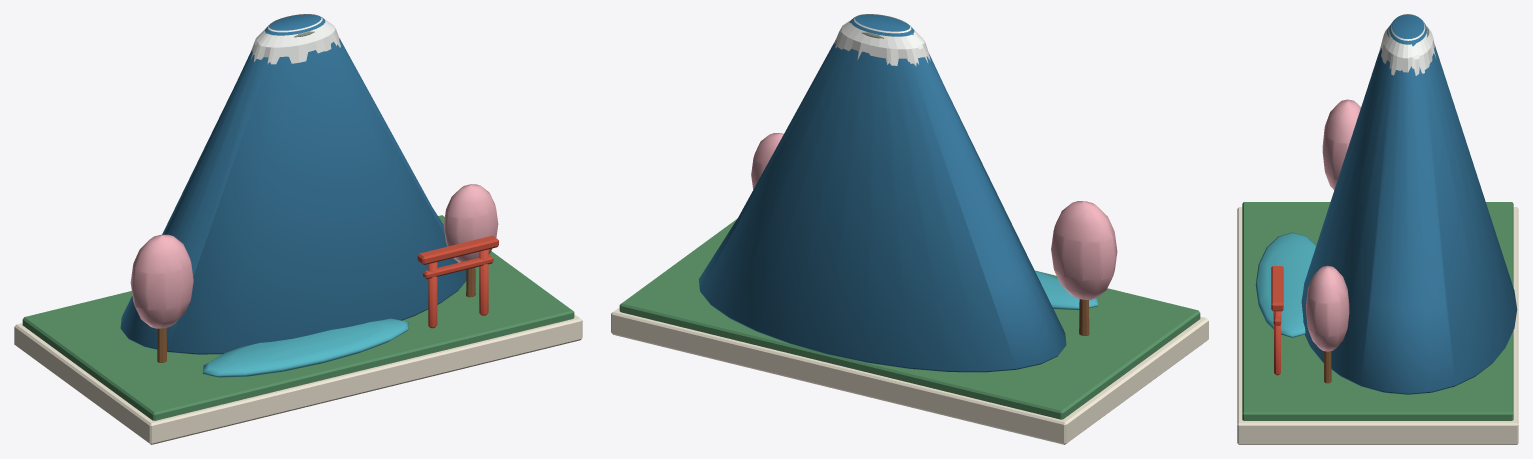
Rendered from mount-fuji.glb.
3 views of the same model, side by side, from view 1: azimuth 30°, elevation 25°; view 2: azimuth 150°, elevation 25°; view 3: azimuth 270°, elevation 25° (orthographic). The views are drawn at different scales.
Parts seen in each view (by area): view 1: Mount Fuji; view 2: Mount Fuji; view 3: Mount Fuji.
Part boxes in pixels (x1,y1,x2,y2): Mount Fuji: (14,14,582,444); Mount Fuji: (611,14,1208,444); Mount Fuji: (1237,14,1518,444).
Size of the model in its own units: 1.47 by 1 by 0.8064.
